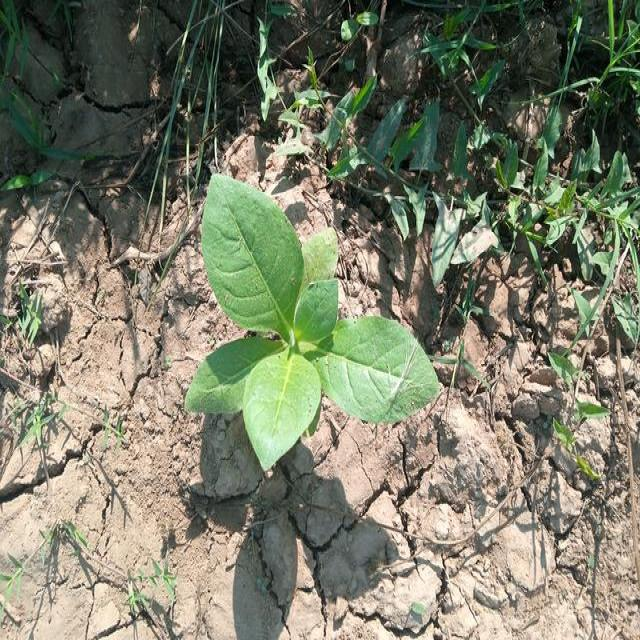crop: (195, 167, 444, 459)
